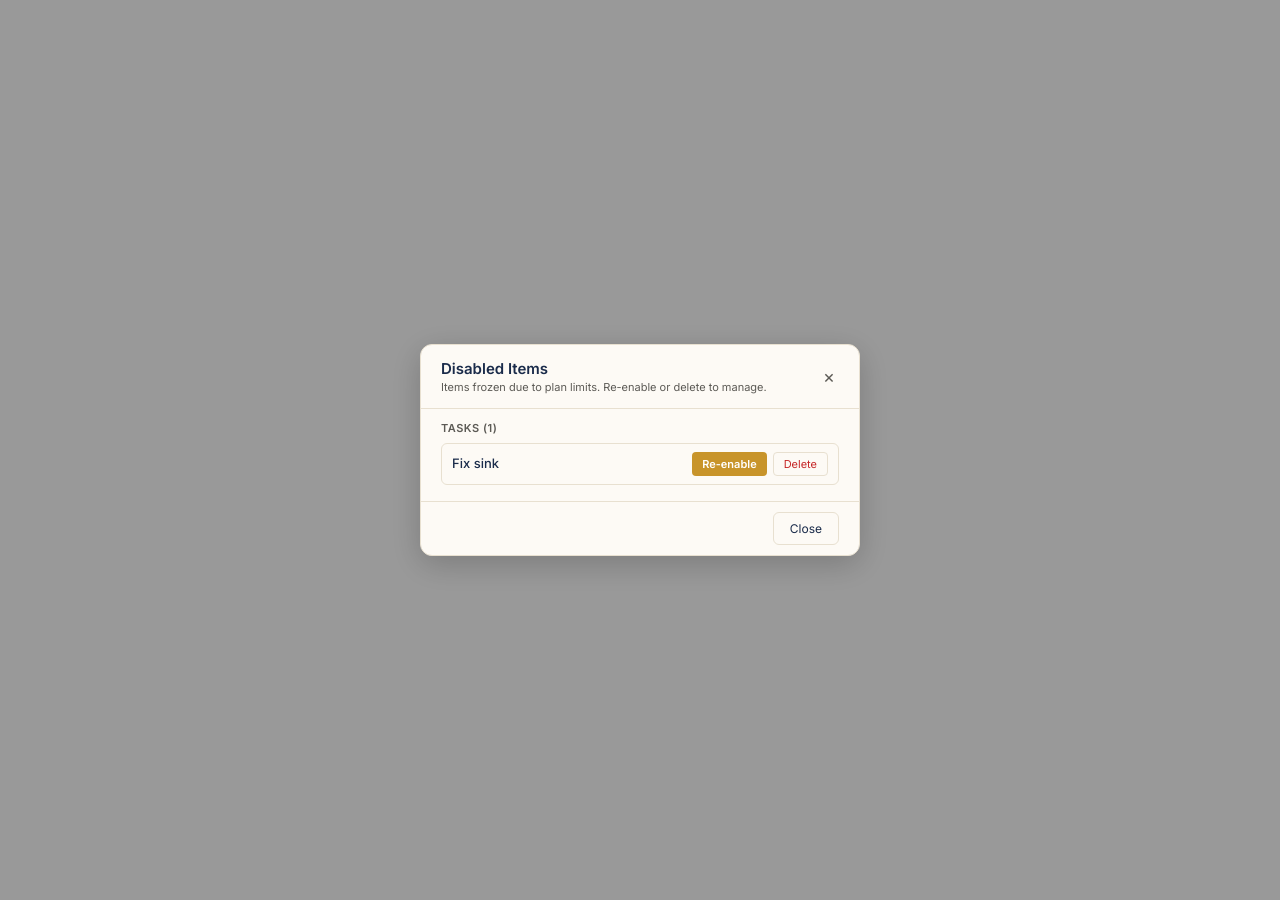
DisabledItemsPanel › re-enables an item: PUT /tasks/:id/re-enable, removes the row, refreshes tasks
The width and height of the screenshot is (1280, 900).
Expected: the text "Fix sink" is shown, [452,455,499,471]
Click the button "Re-enable".
click(729, 464)  # box [692,452,767,476]
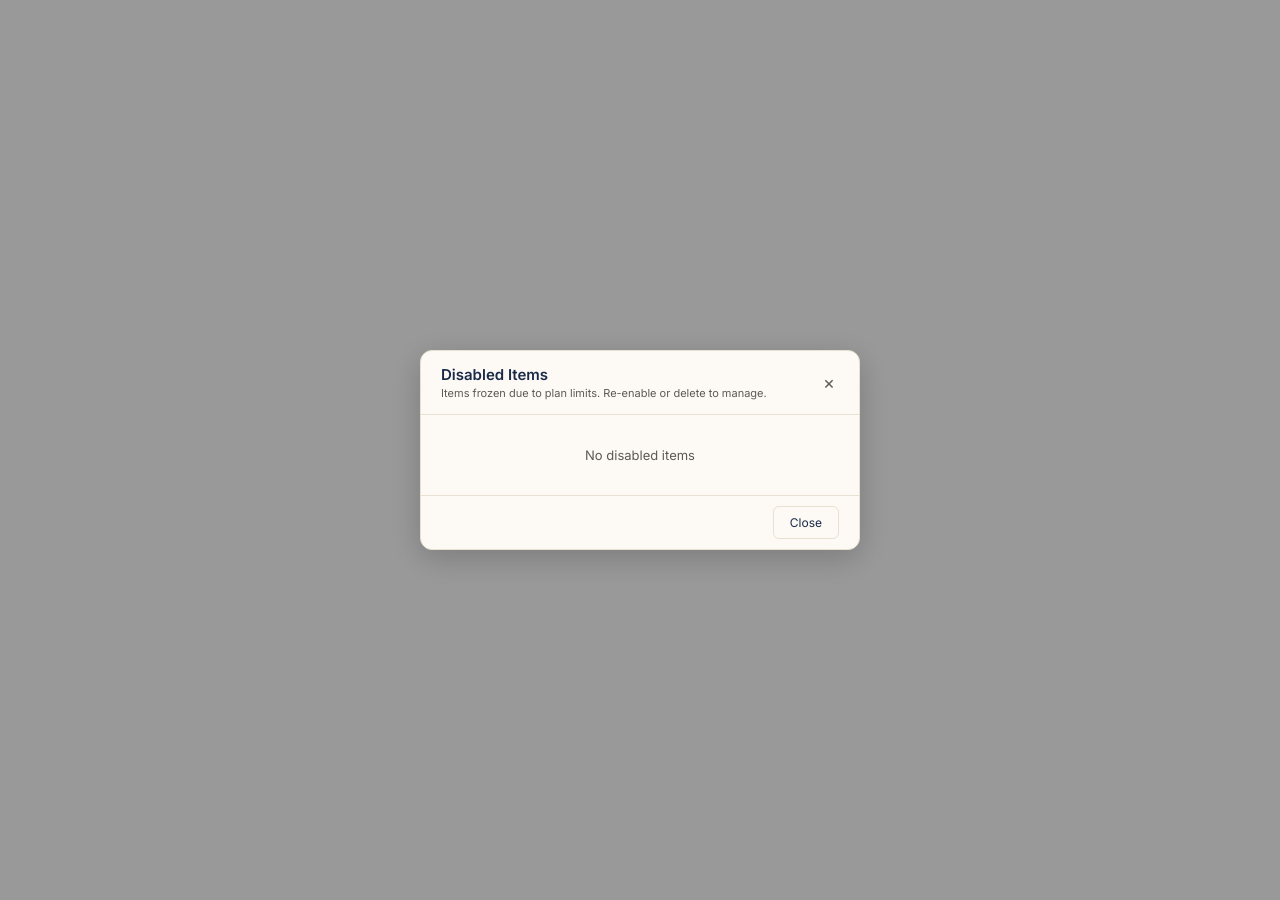
Result: the text "Fix sink" is gone
Result: the text "No disabled items" is shown at [585,447,695,463]
